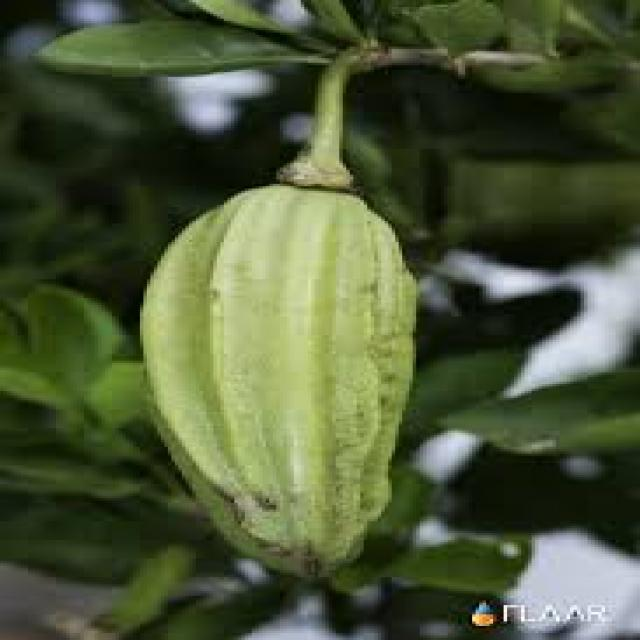organic waste: (133, 138, 423, 580), (0, 274, 161, 580), (472, 368, 637, 461), (31, 17, 329, 68)
